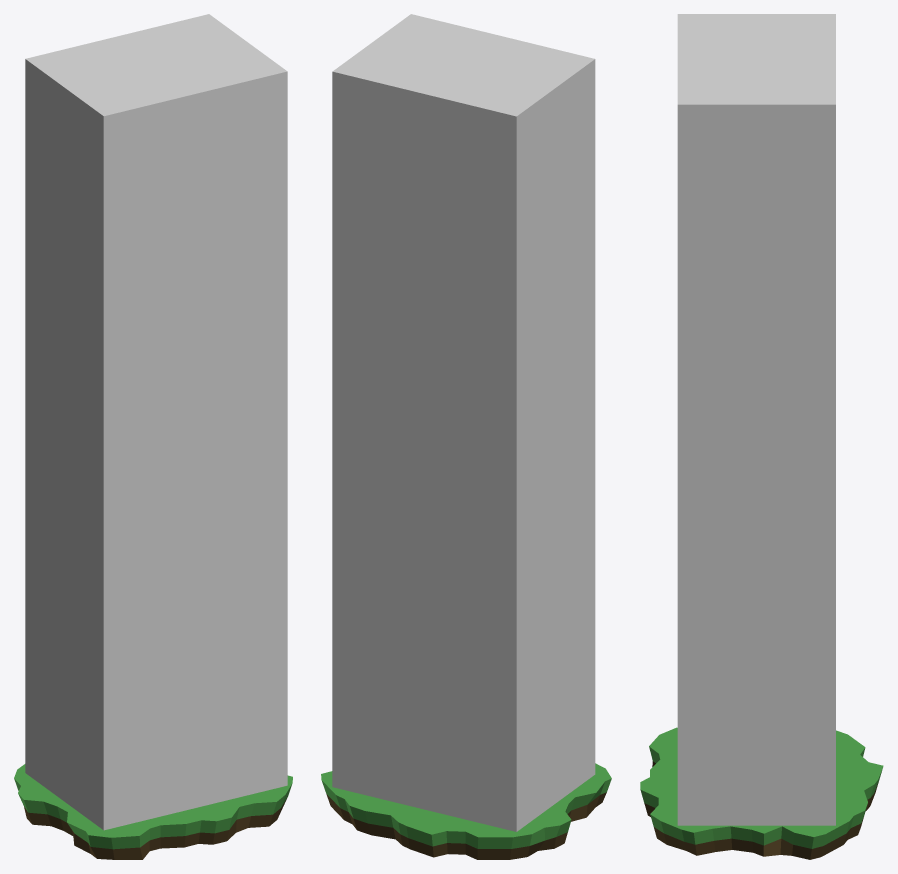
Rendered from animation2.gltf.
The picture shows the model from 3 angles, left to right: view 1: azimuth 30°, elevation 25°; view 2: azimuth 150°, elevation 25°; view 3: azimuth 270°, elevation 25°; orthographic projection.
Parts seen in each view (by area): view 1: Cube, Plane; view 2: Cube, Plane; view 3: Cube, Plane.
Part boxes in pixels (left/top/right/bottom): Cube: left=25, top=14, right=287, bottom=830; Plane: left=14, top=764, right=292, bottom=859; Cube: left=332, top=14, right=595, bottom=831; Plane: left=321, top=763, right=611, bottom=859; Cube: left=677, top=14, right=835, bottom=825; Plane: left=640, top=727, right=883, bottom=859.
Size of the model in its own units: 8.06 by 24.35 by 7.18.
